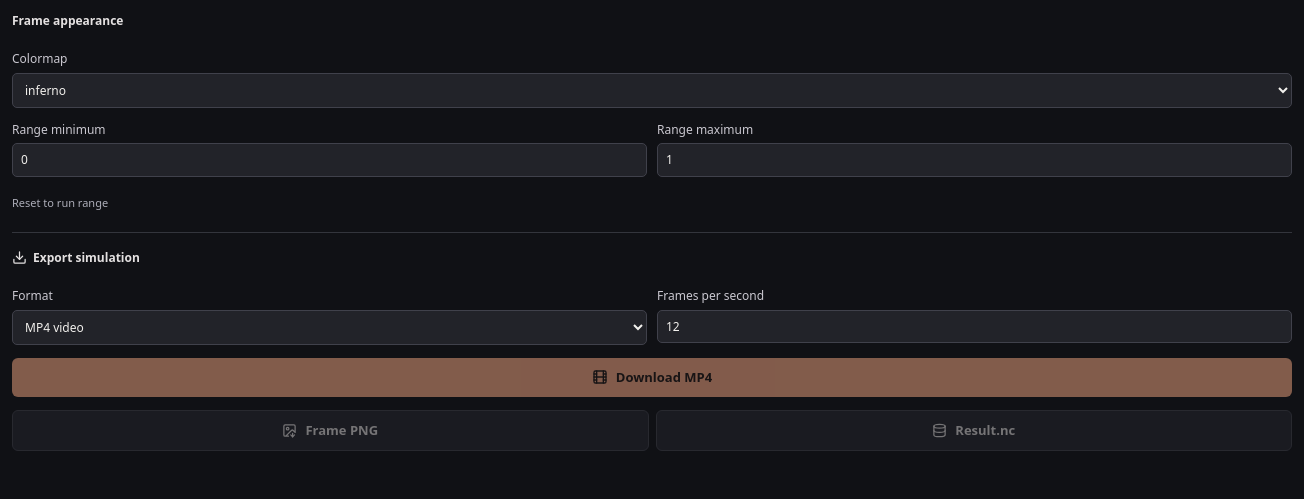
it: shows invalid edited ranges even when the reported range is missing or constant (null)
The width and height of the screenshot is (1304, 499).
expect the text "Enter a minimum" is not shown: met
Replace the text in the number field labelled "Range minimum" with "2" at (330, 160), box [12,143,647,177]
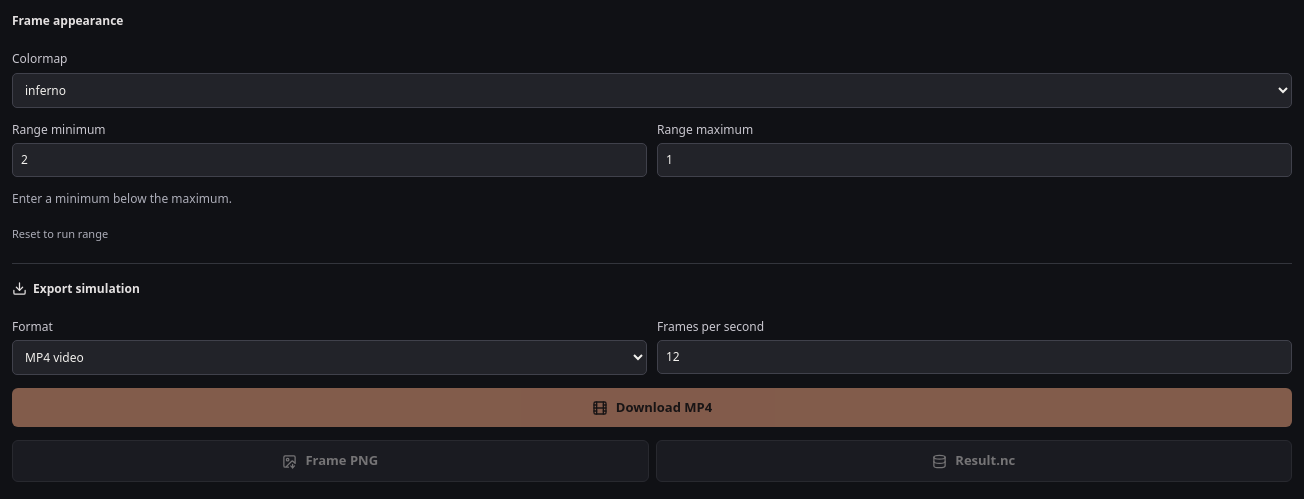
expect the text "Enter a minimum below the maximum." is shown: met, box [12,190,232,207]
Click the button "Reset to run range" at (60, 234), box [12,221,108,247]
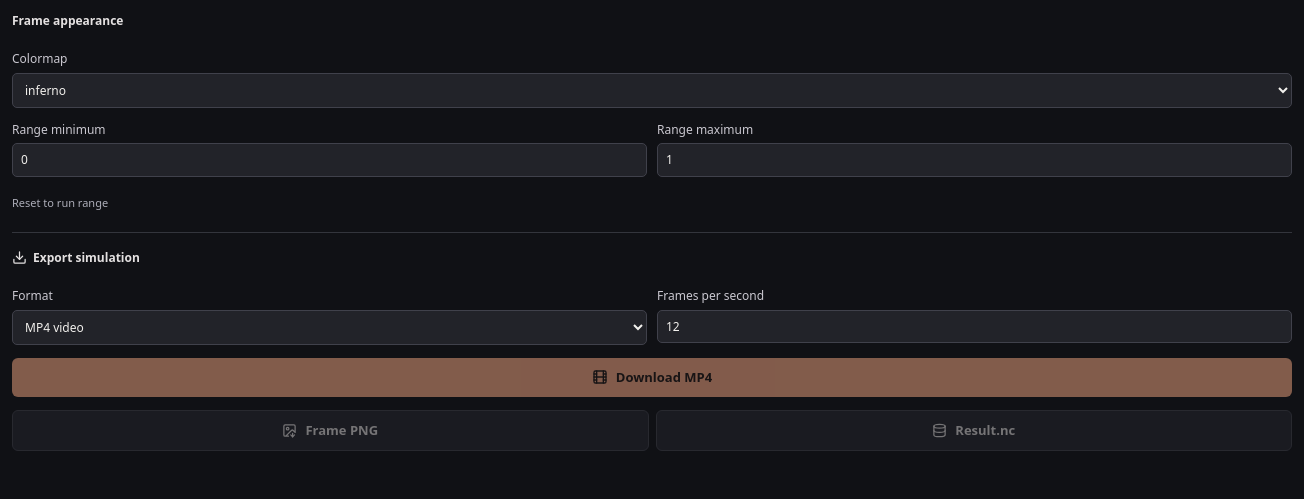
expect the text "Enter a minimum" is gone: met
expect the number field labelled "Range minimum" holds "0": met, box [12,143,647,177]
